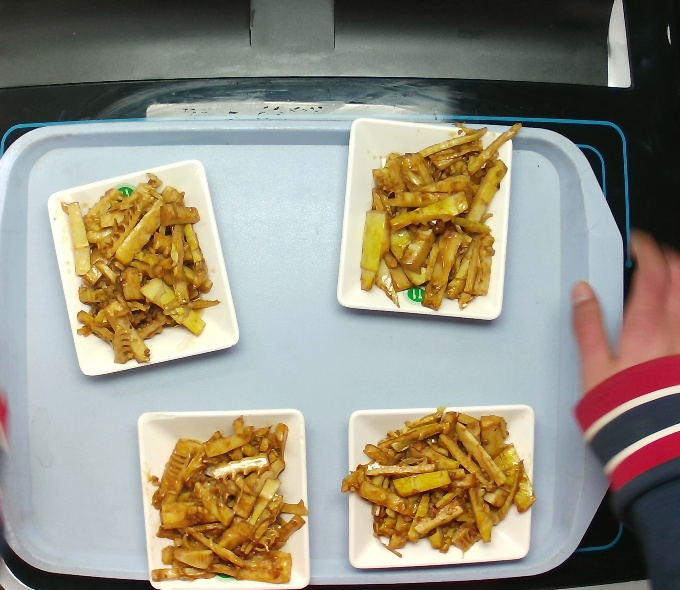wcq-QingChaoChunSun: (342, 119, 526, 316), (138, 407, 315, 589), (336, 408, 544, 558), (59, 176, 222, 362)
